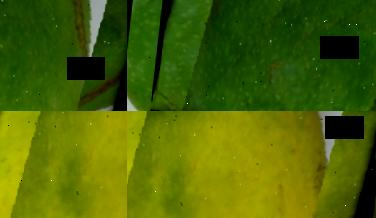PartiallyRipe: (127, 111, 376, 218), (0, 111, 127, 218)
Unripe: (151, 0, 376, 111), (0, 0, 127, 111)
